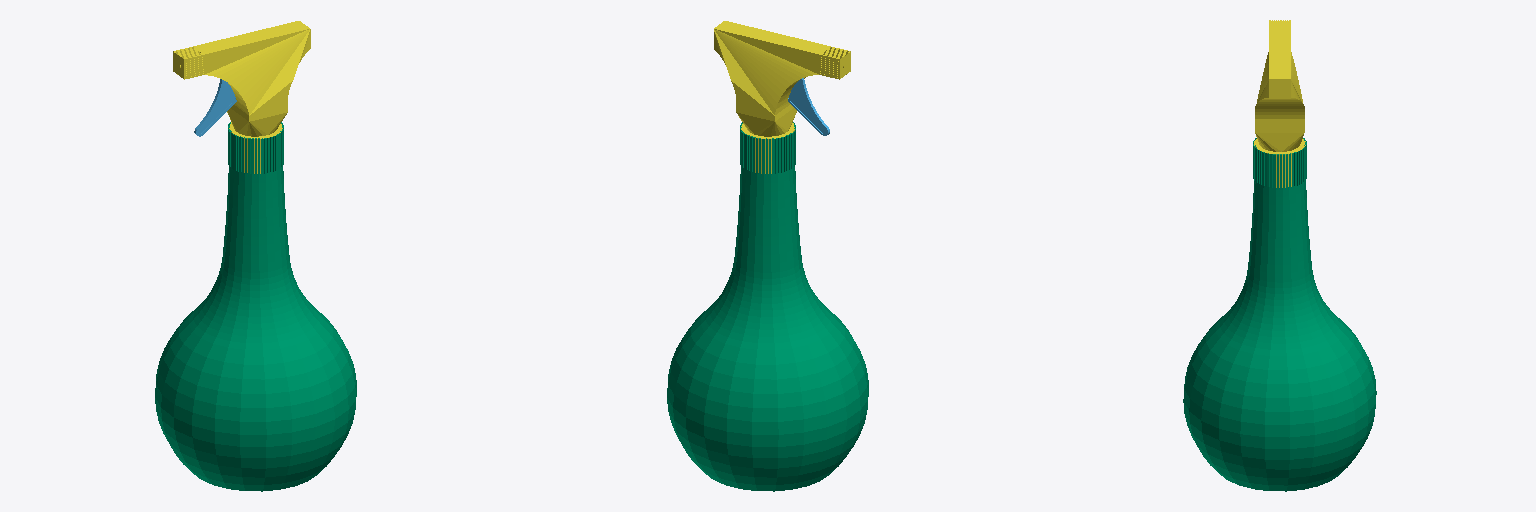
The robot description file, URDF, robot "partnet_2a9b20d21e27ab0026cca18be86a1458":
<?xml version="1.0" ?>
<robot name="partnet_2a9b20d21e27ab0026cca18be86a1458">
	<link name="base"/>
	<link name="link_0">
		<visual name="handle-1">
			<origin xyz="-0.060232291349398004 -0.8545218342536304 -0.08214627610414826"/>
			<geometry>
				<mesh filename="textured_objs/original-12.obj"/>
			</geometry>
		</visual>
		<collision>
			<origin xyz="-0.060232291349398004 -0.8545218342536304 -0.08214627610414826"/>
			<geometry>
				<mesh filename="textured_objs/original-12.obj"/>
			</geometry>
		</collision>
	</link>
	<joint name="joint_0" type="revolute">
		<origin xyz="0.05938179134939801 0.8545218342536304 0.08651277610414826"/>
		<axis xyz="1 0 0"/>
		<child link="link_0"/>
		<parent link="link_2"/>
		<limit lower="0.0" upper="0.5215043804959058" effort="100.0" velocity="1"/>
	</joint>
	<link name="link_1">
		<visual name="base_body-8">
			<origin xyz="0 0 0"/>
			<geometry>
				<mesh filename="textured_objs/original-29.obj"/>
			</geometry>
		</visual>
		<visual name="base_body-8">
			<origin xyz="0 0 0"/>
			<geometry>
				<mesh filename="textured_objs/original-21.obj"/>
			</geometry>
		</visual>
		<visual name="base_body-8">
			<origin xyz="0 0 0"/>
			<geometry>
				<mesh filename="textured_objs/original-30.obj"/>
			</geometry>
		</visual>
		<visual name="base_body-8">
			<origin xyz="0 0 0"/>
			<geometry>
				<mesh filename="textured_objs/original-36.obj"/>
			</geometry>
		</visual>
		<visual name="base_body-8">
			<origin xyz="0 0 0"/>
			<geometry>
				<mesh filename="textured_objs/original-41.obj"/>
			</geometry>
		</visual>
		<visual name="base_body-8">
			<origin xyz="0 0 0"/>
			<geometry>
				<mesh filename="textured_objs/original-28.obj"/>
			</geometry>
		</visual>
		<visual name="base_body-8">
			<origin xyz="0 0 0"/>
			<geometry>
				<mesh filename="textured_objs/original-64.obj"/>
			</geometry>
		</visual>
		<visual name="base_body-8">
			<origin xyz="0 0 0"/>
			<geometry>
				<mesh filename="textured_objs/original-43.obj"/>
			</geometry>
		</visual>
		<visual name="base_body-8">
			<origin xyz="0 0 0"/>
			<geometry>
				<mesh filename="textured_objs/original-52.obj"/>
			</geometry>
		</visual>
		<visual name="base_body-8">
			<origin xyz="0 0 0"/>
			<geometry>
				<mesh filename="textured_objs/original-22.obj"/>
			</geometry>
		</visual>
		<visual name="base_body-8">
			<origin xyz="0 0 0"/>
			<geometry>
				<mesh filename="textured_objs/original-26.obj"/>
			</geometry>
		</visual>
		<visual name="base_body-8">
			<origin xyz="0 0 0"/>
			<geometry>
				<mesh filename="textured_objs/original-4.obj"/>
			</geometry>
		</visual>
		<visual name="base_body-8">
			<origin xyz="0 0 0"/>
			<geometry>
				<mesh filename="textured_objs/original-3.obj"/>
			</geometry>
		</visual>
		<visual name="base_body-8">
			<origin xyz="0 0 0"/>
			<geometry>
				<mesh filename="textured_objs/original-65.obj"/>
			</geometry>
		</visual>
		<visual name="base_body-8">
			<origin xyz="0 0 0"/>
			<geometry>
				<mesh filename="textured_objs/original-33.obj"/>
			</geometry>
		</visual>
		<visual name="base_body-8">
			<origin xyz="0 0 0"/>
			<geometry>
				<mesh filename="textured_objs/original-2.obj"/>
			</geometry>
		</visual>
		<visual name="base_body-8">
			<origin xyz="0 0 0"/>
			<geometry>
				<mesh filename="textured_objs/original-44.obj"/>
			</geometry>
		</visual>
		<visual name="base_body-8">
			<origin xyz="0 0 0"/>
			<geometry>
				<mesh filename="textured_objs/original-16.obj"/>
			</geometry>
		</visual>
		<visual name="base_body-8">
			<origin xyz="0 0 0"/>
			<geometry>
				<mesh filename="textured_objs/original-45.obj"/>
			</geometry>
		</visual>
		<visual name="base_body-8">
			<origin xyz="0 0 0"/>
			<geometry>
				<mesh filename="textured_objs/original-35.obj"/>
			</geometry>
		</visual>
		<visual name="base_body-8">
			<origin xyz="0 0 0"/>
			<geometry>
				<mesh filename="textured_objs/original-49.obj"/>
			</geometry>
		</visual>
		<visual name="base_body-8">
			<origin xyz="0 0 0"/>
			<geometry>
				<mesh filename="textured_objs/original-61.obj"/>
			</geometry>
		</visual>
		<visual name="base_body-8">
			<origin xyz="0 0 0"/>
			<geometry>
				<mesh filename="textured_objs/original-39.obj"/>
			</geometry>
		</visual>
		<visual name="base_body-8">
			<origin xyz="0 0 0"/>
			<geometry>
				<mesh filename="textured_objs/original-59.obj"/>
			</geometry>
		</visual>
		<visual name="base_body-8">
			<origin xyz="0 0 0"/>
			<geometry>
				<mesh filename="textured_objs/original-54.obj"/>
			</geometry>
		</visual>
		<visual name="base_body-8">
			<origin xyz="0 0 0"/>
			<geometry>
				<mesh filename="textured_objs/original-63.obj"/>
			</geometry>
		</visual>
		<visual name="base_body-8">
			<origin xyz="0 0 0"/>
			<geometry>
				<mesh filename="textured_objs/original-27.obj"/>
			</geometry>
		</visual>
		<visual name="base_body-8">
			<origin xyz="0 0 0"/>
			<geometry>
				<mesh filename="textured_objs/original-51.obj"/>
			</geometry>
		</visual>
		<visual name="base_body-8">
			<origin xyz="0 0 0"/>
			<geometry>
				<mesh filename="textured_objs/original-55.obj"/>
			</geometry>
		</visual>
		<visual name="base_body-8">
			<origin xyz="0 0 0"/>
			<geometry>
				<mesh filename="textured_objs/original-50.obj"/>
			</geometry>
		</visual>
		<visual name="base_body-8">
			<origin xyz="0 0 0"/>
			<geometry>
				<mesh filename="textured_objs/original-6.obj"/>
			</geometry>
		</visual>
		<visual name="base_body-8">
			<origin xyz="0 0 0"/>
			<geometry>
				<mesh filename="textured_objs/original-31.obj"/>
			</geometry>
		</visual>
		<visual name="base_body-8">
			<origin xyz="0 0 0"/>
			<geometry>
				<mesh filename="textured_objs/original-37.obj"/>
			</geometry>
		</visual>
		<visual name="base_body-8">
			<origin xyz="0 0 0"/>
			<geometry>
				<mesh filename="textured_objs/original-48.obj"/>
			</geometry>
		</visual>
		<visual name="base_body-8">
			<origin xyz="0 0 0"/>
			<geometry>
				<mesh filename="textured_objs/original-15.obj"/>
			</geometry>
		</visual>
		<visual name="base_body-8">
			<origin xyz="0 0 0"/>
			<geometry>
				<mesh filename="textured_objs/original-56.obj"/>
			</geometry>
		</visual>
		<visual name="base_body-8">
			<origin xyz="0 0 0"/>
			<geometry>
				<mesh filename="textured_objs/original-62.obj"/>
			</geometry>
		</visual>
		<visual name="base_body-8">
			<origin xyz="0 0 0"/>
			<geometry>
				<mesh filename="textured_objs/original-23.obj"/>
			</geometry>
		</visual>
		<visual name="base_body-8">
			<origin xyz="0 0 0"/>
			<geometry>
				<mesh filename="textured_objs/original-66.obj"/>
			</geometry>
		</visual>
		<visual name="base_body-8">
			<origin xyz="0 0 0"/>
			<geometry>
				<mesh filename="textured_objs/original-58.obj"/>
			</geometry>
		</visual>
		<visual name="base_body-8">
			<origin xyz="0 0 0"/>
			<geometry>
				<mesh filename="textured_objs/original-67.obj"/>
			</geometry>
		</visual>
		<visual name="base_body-8">
			<origin xyz="0 0 0"/>
			<geometry>
				<mesh filename="textured_objs/original-38.obj"/>
			</geometry>
		</visual>
		<visual name="base_body-8">
			<origin xyz="0 0 0"/>
			<geometry>
				<mesh filename="textured_objs/original-68.obj"/>
			</geometry>
		</visual>
		<visual name="base_body-8">
			<origin xyz="0 0 0"/>
			<geometry>
				<mesh filename="textured_objs/original-34.obj"/>
			</geometry>
		</visual>
		<visual name="base_body-8">
			<origin xyz="0 0 0"/>
			<geometry>
				<mesh filename="textured_objs/original-18.obj"/>
			</geometry>
		</visual>
		<visual name="base_body-8">
			<origin xyz="0 0 0"/>
			<geometry>
				<mesh filename="textured_objs/original-25.obj"/>
			</geometry>
		</visual>
		<visual name="base_body-8">
			<origin xyz="0 0 0"/>
			<geometry>
				<mesh filename="textured_objs/original-17.obj"/>
			</geometry>
		</visual>
		<visual name="base_body-8">
			<origin xyz="0 0 0"/>
			<geometry>
				<mesh filename="textured_objs/original-42.obj"/>
			</geometry>
		</visual>
		<visual name="base_body-8">
			<origin xyz="0 0 0"/>
			<geometry>
				<mesh filename="textured_objs/original-24.obj"/>
			</geometry>
		</visual>
		<visual name="base_body-8">
			<origin xyz="0 0 0"/>
			<geometry>
				<mesh filename="textured_objs/original-20.obj"/>
			</geometry>
		</visual>
		<visual name="base_body-8">
			<origin xyz="0 0 0"/>
			<geometry>
				<mesh filename="textured_objs/original-32.obj"/>
			</geometry>
		</visual>
		<visual name="base_body-8">
			<origin xyz="0 0 0"/>
			<geometry>
				<mesh filename="textured_objs/original-47.obj"/>
			</geometry>
		</visual>
		<visual name="base_body-8">
			<origin xyz="0 0 0"/>
			<geometry>
				<mesh filename="textured_objs/original-53.obj"/>
			</geometry>
		</visual>
		<visual name="base_body-8">
			<origin xyz="0 0 0"/>
			<geometry>
				<mesh filename="textured_objs/original-60.obj"/>
			</geometry>
		</visual>
		<visual name="base_body-8">
			<origin xyz="0 0 0"/>
			<geometry>
				<mesh filename="textured_objs/original-19.obj"/>
			</geometry>
		</visual>
		<visual name="base_body-8">
			<origin xyz="0 0 0"/>
			<geometry>
				<mesh filename="textured_objs/original-40.obj"/>
			</geometry>
		</visual>
		<visual name="base_body-8">
			<origin xyz="0 0 0"/>
			<geometry>
				<mesh filename="textured_objs/original-46.obj"/>
			</geometry>
		</visual>
		<visual name="base_body-8">
			<origin xyz="0 0 0"/>
			<geometry>
				<mesh filename="textured_objs/original-57.obj"/>
			</geometry>
		</visual>
		<collision>
			<origin xyz="0 0 0"/>
			<geometry>
				<mesh filename="textured_objs/original-29.obj"/>
			</geometry>
		</collision>
		<collision>
			<origin xyz="0 0 0"/>
			<geometry>
				<mesh filename="textured_objs/original-21.obj"/>
			</geometry>
		</collision>
		<collision>
			<origin xyz="0 0 0"/>
			<geometry>
				<mesh filename="textured_objs/original-30.obj"/>
			</geometry>
		</collision>
		<collision>
			<origin xyz="0 0 0"/>
			<geometry>
				<mesh filename="textured_objs/original-36.obj"/>
			</geometry>
		</collision>
		<collision>
			<origin xyz="0 0 0"/>
			<geometry>
				<mesh filename="textured_objs/original-41.obj"/>
			</geometry>
		</collision>
		<collision>
			<origin xyz="0 0 0"/>
			<geometry>
				<mesh filename="textured_objs/original-28.obj"/>
			</geometry>
		</collision>
		<collision>
			<origin xyz="0 0 0"/>
			<geometry>
				<mesh filename="textured_objs/original-64.obj"/>
			</geometry>
		</collision>
		<collision>
			<origin xyz="0 0 0"/>
			<geometry>
				<mesh filename="textured_objs/original-43.obj"/>
			</geometry>
		</collision>
		<collision>
			<origin xyz="0 0 0"/>
			<geometry>
				<mesh filename="textured_objs/original-52.obj"/>
			</geometry>
		</collision>
		<collision>
			<origin xyz="0 0 0"/>
			<geometry>
				<mesh filename="textured_objs/original-22.obj"/>
			</geometry>
		</collision>
		<collision>
			<origin xyz="0 0 0"/>
			<geometry>
				<mesh filename="textured_objs/original-26.obj"/>
			</geometry>
		</collision>
		<collision>
			<origin xyz="0 0 0"/>
			<geometry>
				<mesh filename="textured_objs/original-4.obj"/>
			</geometry>
		</collision>
		<collision>
			<origin xyz="0 0 0"/>
			<geometry>
				<mesh filename="textured_objs/original-3.obj"/>
			</geometry>
		</collision>
		<collision>
			<origin xyz="0 0 0"/>
			<geometry>
				<mesh filename="textured_objs/original-65.obj"/>
			</geometry>
		</collision>
		<collision>
			<origin xyz="0 0 0"/>
			<geometry>
				<mesh filename="textured_objs/original-33.obj"/>
			</geometry>
		</collision>
		<collision>
			<origin xyz="0 0 0"/>
			<geometry>
				<mesh filename="textured_objs/original-2.obj"/>
			</geometry>
		</collision>
		<collision>
			<origin xyz="0 0 0"/>
			<geometry>
				<mesh filename="textured_objs/original-44.obj"/>
			</geometry>
		</collision>
		<collision>
			<origin xyz="0 0 0"/>
			<geometry>
				<mesh filename="textured_objs/original-16.obj"/>
			</geometry>
		</collision>
		<collision>
			<origin xyz="0 0 0"/>
			<geometry>
				<mesh filename="textured_objs/original-45.obj"/>
			</geometry>
		</collision>
		<collision>
			<origin xyz="0 0 0"/>
			<geometry>
				<mesh filename="textured_objs/original-35.obj"/>
			</geometry>
		</collision>
		<collision>
			<origin xyz="0 0 0"/>
			<geometry>
				<mesh filename="textured_objs/original-49.obj"/>
			</geometry>
		</collision>
		<collision>
			<origin xyz="0 0 0"/>
			<geometry>
				<mesh filename="textured_objs/original-61.obj"/>
			</geometry>
		</collision>
		<collision>
			<origin xyz="0 0 0"/>
			<geometry>
				<mesh filename="textured_objs/original-39.obj"/>
			</geometry>
		</collision>
		<collision>
			<origin xyz="0 0 0"/>
			<geometry>
				<mesh filename="textured_objs/original-59.obj"/>
			</geometry>
		</collision>
		<collision>
			<origin xyz="0 0 0"/>
			<geometry>
				<mesh filename="textured_objs/original-54.obj"/>
			</geometry>
		</collision>
		<collision>
			<origin xyz="0 0 0"/>
			<geometry>
				<mesh filename="textured_objs/original-63.obj"/>
			</geometry>
		</collision>
		<collision>
			<origin xyz="0 0 0"/>
			<geometry>
				<mesh filename="textured_objs/original-27.obj"/>
			</geometry>
		</collision>
		<collision>
			<origin xyz="0 0 0"/>
			<geometry>
				<mesh filename="textured_objs/original-51.obj"/>
			</geometry>
		</collision>
		<collision>
			<origin xyz="0 0 0"/>
			<geometry>
				<mesh filename="textured_objs/original-55.obj"/>
			</geometry>
		</collision>
		<collision>
			<origin xyz="0 0 0"/>
			<geometry>
				<mesh filename="textured_objs/original-50.obj"/>
			</geometry>
		</collision>
		<collision>
			<origin xyz="0 0 0"/>
			<geometry>
				<mesh filename="textured_objs/original-6.obj"/>
			</geometry>
		</collision>
		<collision>
			<origin xyz="0 0 0"/>
			<geometry>
				<mesh filename="textured_objs/original-31.obj"/>
			</geometry>
		</collision>
		<collision>
			<origin xyz="0 0 0"/>
			<geometry>
				<mesh filename="textured_objs/original-37.obj"/>
			</geometry>
		</collision>
		<collision>
			<origin xyz="0 0 0"/>
			<geometry>
				<mesh filename="textured_objs/original-48.obj"/>
			</geometry>
		</collision>
		<collision>
			<origin xyz="0 0 0"/>
			<geometry>
				<mesh filename="textured_objs/original-15.obj"/>
			</geometry>
		</collision>
		<collision>
			<origin xyz="0 0 0"/>
			<geometry>
				<mesh filename="textured_objs/original-56.obj"/>
			</geometry>
		</collision>
		<collision>
			<origin xyz="0 0 0"/>
			<geometry>
				<mesh filename="textured_objs/original-62.obj"/>
			</geometry>
		</collision>
		<collision>
			<origin xyz="0 0 0"/>
			<geometry>
				<mesh filename="textured_objs/original-23.obj"/>
			</geometry>
		</collision>
		<collision>
			<origin xyz="0 0 0"/>
			<geometry>
				<mesh filename="textured_objs/original-66.obj"/>
			</geometry>
		</collision>
		<collision>
			<origin xyz="0 0 0"/>
			<geometry>
				<mesh filename="textured_objs/original-58.obj"/>
			</geometry>
		</collision>
		<collision>
			<origin xyz="0 0 0"/>
			<geometry>
				<mesh filename="textured_objs/original-67.obj"/>
			</geometry>
		</collision>
		<collision>
			<origin xyz="0 0 0"/>
			<geometry>
				<mesh filename="textured_objs/original-38.obj"/>
			</geometry>
		</collision>
		<collision>
			<origin xyz="0 0 0"/>
			<geometry>
				<mesh filename="textured_objs/original-68.obj"/>
			</geometry>
		</collision>
		<collision>
			<origin xyz="0 0 0"/>
			<geometry>
				<mesh filename="textured_objs/original-34.obj"/>
			</geometry>
		</collision>
		<collision>
			<origin xyz="0 0 0"/>
			<geometry>
				<mesh filename="textured_objs/original-18.obj"/>
			</geometry>
		</collision>
		<collision>
			<origin xyz="0 0 0"/>
			<geometry>
				<mesh filename="textured_objs/original-25.obj"/>
			</geometry>
		</collision>
		<collision>
			<origin xyz="0 0 0"/>
			<geometry>
				<mesh filename="textured_objs/original-17.obj"/>
			</geometry>
		</collision>
		<collision>
			<origin xyz="0 0 0"/>
			<geometry>
				<mesh filename="textured_objs/original-42.obj"/>
			</geometry>
		</collision>
		<collision>
			<origin xyz="0 0 0"/>
			<geometry>
				<mesh filename="textured_objs/original-24.obj"/>
			</geometry>
		</collision>
		<collision>
			<origin xyz="0 0 0"/>
			<geometry>
				<mesh filename="textured_objs/original-20.obj"/>
			</geometry>
		</collision>
		<collision>
			<origin xyz="0 0 0"/>
			<geometry>
				<mesh filename="textured_objs/original-32.obj"/>
			</geometry>
		</collision>
		<collision>
			<origin xyz="0 0 0"/>
			<geometry>
				<mesh filename="textured_objs/original-47.obj"/>
			</geometry>
		</collision>
		<collision>
			<origin xyz="0 0 0"/>
			<geometry>
				<mesh filename="textured_objs/original-53.obj"/>
			</geometry>
		</collision>
		<collision>
			<origin xyz="0 0 0"/>
			<geometry>
				<mesh filename="textured_objs/original-60.obj"/>
			</geometry>
		</collision>
		<collision>
			<origin xyz="0 0 0"/>
			<geometry>
				<mesh filename="textured_objs/original-19.obj"/>
			</geometry>
		</collision>
		<collision>
			<origin xyz="0 0 0"/>
			<geometry>
				<mesh filename="textured_objs/original-40.obj"/>
			</geometry>
		</collision>
		<collision>
			<origin xyz="0 0 0"/>
			<geometry>
				<mesh filename="textured_objs/original-46.obj"/>
			</geometry>
		</collision>
		<collision>
			<origin xyz="0 0 0"/>
			<geometry>
				<mesh filename="textured_objs/original-57.obj"/>
			</geometry>
		</collision>
	</link>
	<joint name="joint_1" type="fixed">
		<origin rpy="1.570796326794897 0 -1.570796326794897" xyz="0 0 0"/>
		<child link="link_1"/>
		<parent link="base"/>
	</joint>
	<link name="link_2">
		<visual name="head-5">
			<origin xyz="-0.0008504999999999971 0 0.004366499999999999"/>
			<geometry>
				<mesh filename="textured_objs/original-11.obj"/>
			</geometry>
		</visual>
		<visual name="head-5">
			<origin xyz="-0.0008504999999999971 0 0.004366499999999999"/>
			<geometry>
				<mesh filename="textured_objs/original-14.obj"/>
			</geometry>
		</visual>
		<visual name="nose-7">
			<origin xyz="-0.0008504999999999971 0 0.004366499999999999"/>
			<geometry>
				<mesh filename="textured_objs/original-8.obj"/>
			</geometry>
		</visual>
		<collision>
			<origin xyz="-0.0008504999999999971 0 0.004366499999999999"/>
			<geometry>
				<mesh filename="textured_objs/original-11.obj"/>
			</geometry>
		</collision>
		<collision>
			<origin xyz="-0.0008504999999999971 0 0.004366499999999999"/>
			<geometry>
				<mesh filename="textured_objs/original-14.obj"/>
			</geometry>
		</collision>
		<collision>
			<origin xyz="-0.0008504999999999971 0 0.004366499999999999"/>
			<geometry>
				<mesh filename="textured_objs/original-8.obj"/>
			</geometry>
		</collision>
	</link>
	<joint name="joint_2" type="fixed">
		<origin xyz="0.0 0 0.0"/>
		<!-- <axis xyz="0 1 0"/> -->
		<child link="link_2"/>
		<parent link="link_2_helper"/>
	</joint>
	<link name="link_2_helper"/>
	<joint name="joint_3" type="prismatic">
		<origin xyz="0.0008504999999999971 0 -0.004366499999999999"/>
		<axis xyz="0 1 0"/>
		<child link="link_2_helper"/>
		<parent link="link_1"/>
		<limit lower="0" upper="0.12" effort="100.0" velocity="1"/>
	</joint>
</robot>

--- Render facts (derived) ---
Views: 3 orthographic renders of the robot side by side, from view 1: azimuth 30°, elevation 25°; view 2: azimuth 150°, elevation 25°; view 3: azimuth 270°, elevation 25°.
Robot: partnet_2a9b20d21e27ab0026cca18be86a1458 — 5 links, 4 joints (1 revolute, 1 prismatic, 2 fixed); root link base; default pose: every joint at zero.
Visible links, largest first — view 1: link_1, link_2, link_0; view 2: link_1, link_2, link_0; view 3: link_1, link_2.
Boxes of the visible links, x1,y1,x2,y2 form: link_1: [155, 122, 356, 491]; link_2: [173, 21, 310, 173]; link_0: [194, 79, 236, 136]; link_1: [667, 122, 868, 491]; link_2: [714, 21, 850, 173]; link_0: [788, 78, 829, 135]; link_1: [1183, 138, 1376, 491]; link_2: [1254, 20, 1305, 187].
Size in the robot's own frame: 0.6141 by 0.6141 by 1.43 metres.
62 mesh visuals loaded from 62 distinct referenced files (62 OBJ).